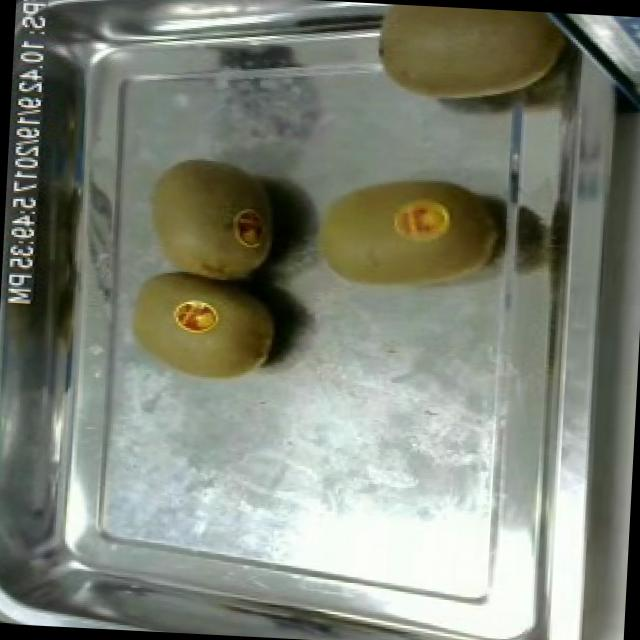Fruit: (306, 162, 509, 312), (363, 2, 582, 119), (136, 144, 286, 290), (113, 273, 284, 394)
